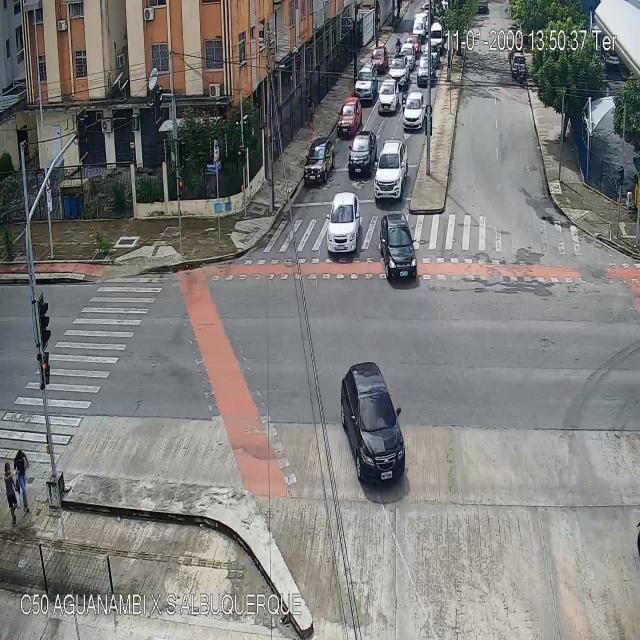Car: (341, 360, 408, 489), (380, 214, 417, 282), (374, 137, 408, 201), (325, 194, 363, 248), (303, 139, 334, 184), (348, 131, 375, 175), (354, 65, 376, 105), (403, 94, 425, 133), (338, 99, 362, 132), (417, 55, 436, 84), (380, 79, 396, 112), (429, 22, 445, 48), (511, 53, 526, 79), (423, 40, 440, 62), (372, 48, 386, 74), (411, 12, 427, 34), (392, 59, 405, 83), (402, 41, 414, 67), (407, 31, 420, 53)
Motorcycle: (395, 37, 403, 57), (400, 86, 406, 112), (516, 62, 523, 80)
